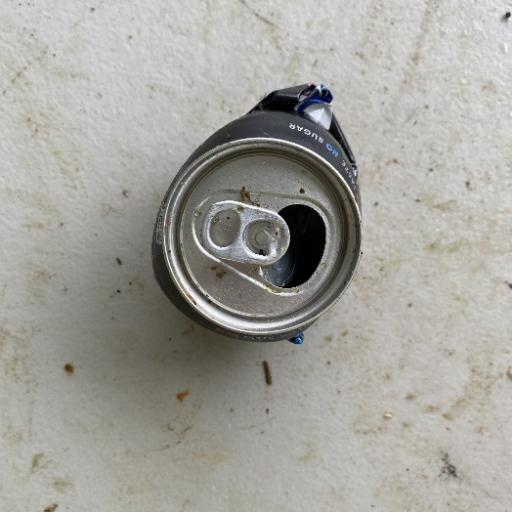Metal: (148, 80, 366, 346)
